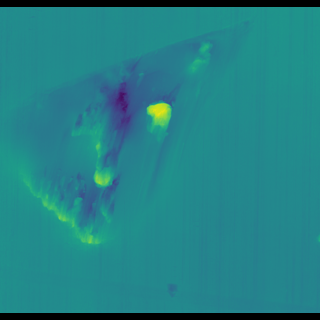Loch: (19, 40, 224, 251)
